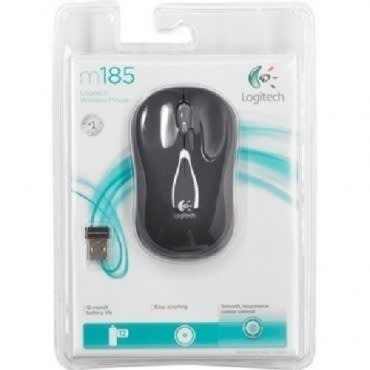logitech-mouse-m185: (82, 88, 236, 269)
